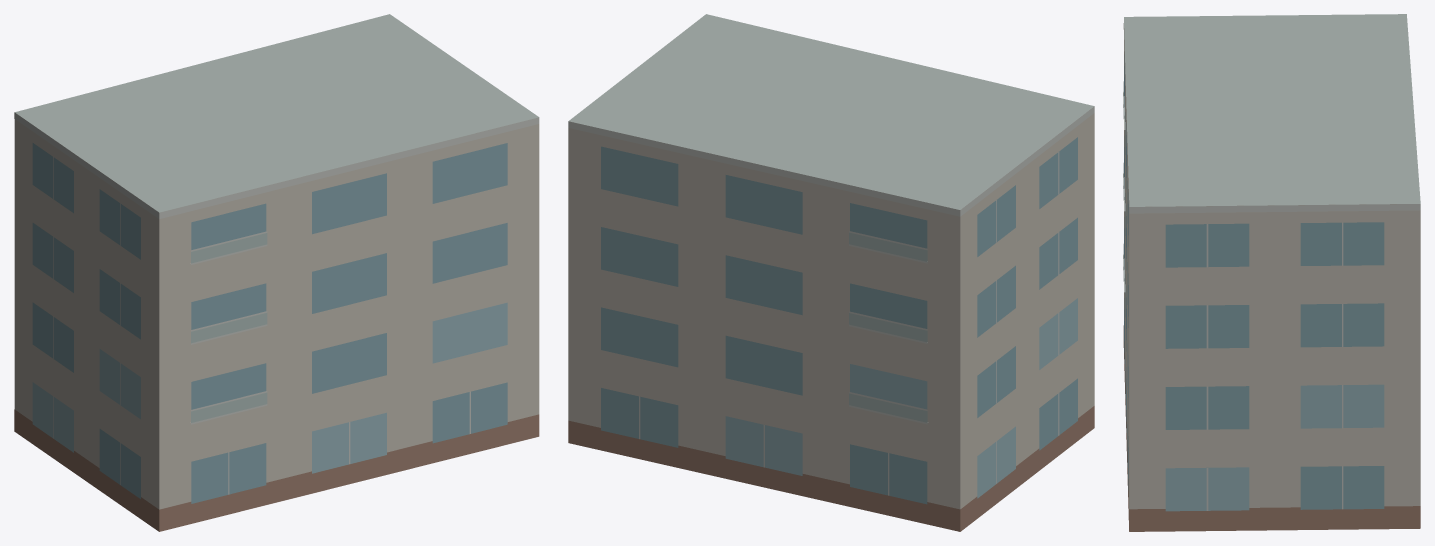
Rendered from survey-upis-32918192.glb.
The picture shows the model from 3 angles, left to right: view 1: azimuth 30°, elevation 25°; view 2: azimuth 150°, elevation 25°; view 3: azimuth 270°, elevation 25°; orthographic projection.
Parts seen in each view (by area): view 1: survey-upis-32918192.tmp; view 2: survey-upis-32918192.tmp; view 3: survey-upis-32918192.tmp.
Boxes of the visible parts, x1,y1,x2,y2 form: survey-upis-32918192.tmp: [14, 14, 539, 531]; survey-upis-32918192.tmp: [568, 14, 1094, 531]; survey-upis-32918192.tmp: [1123, 14, 1420, 531].
Size of the model in its own units: 15.1 by 11.85 by 9.84.
